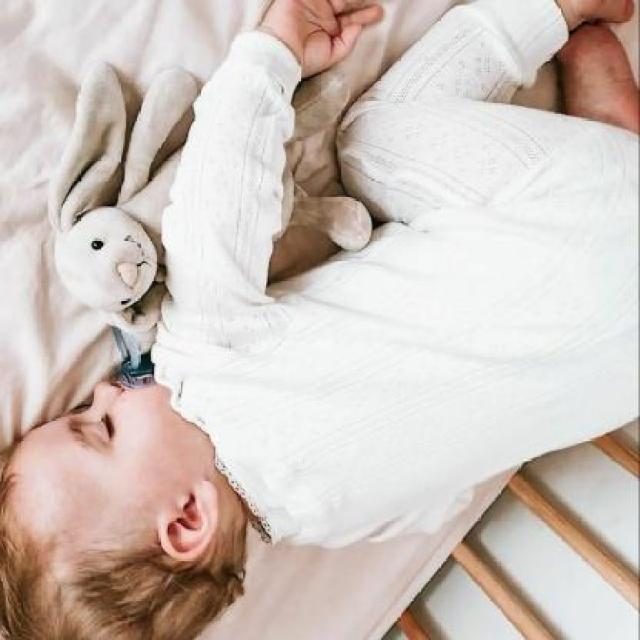baby: (3, 3, 640, 636)
